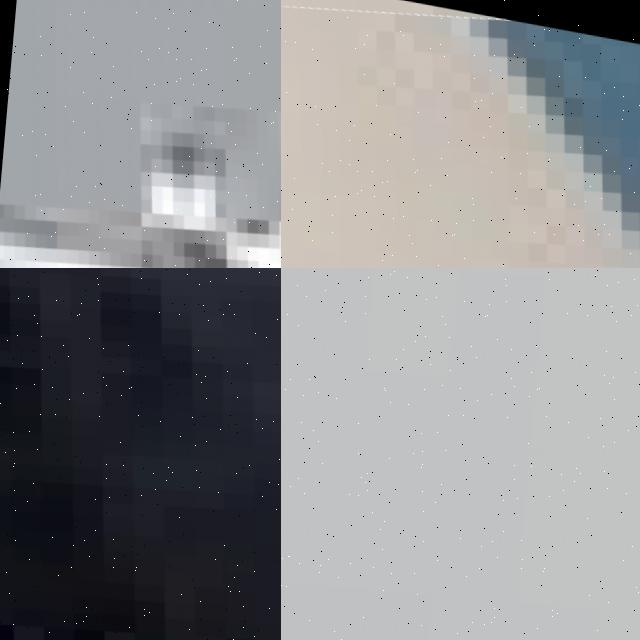0: (0, 0, 281, 268)
drone: (0, 268, 281, 640), (281, 0, 640, 268)
